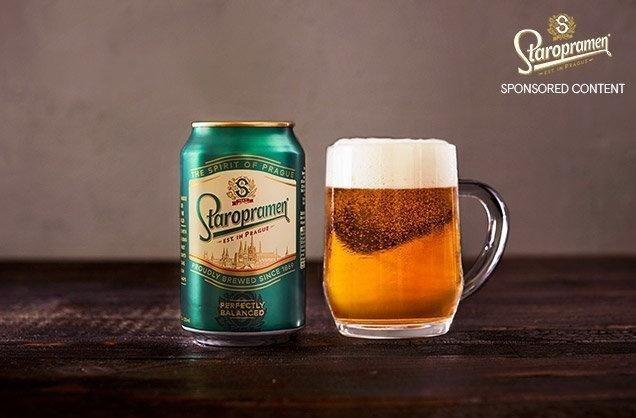glass-mug: (319, 133, 511, 341)
tin can: (179, 116, 309, 346)
